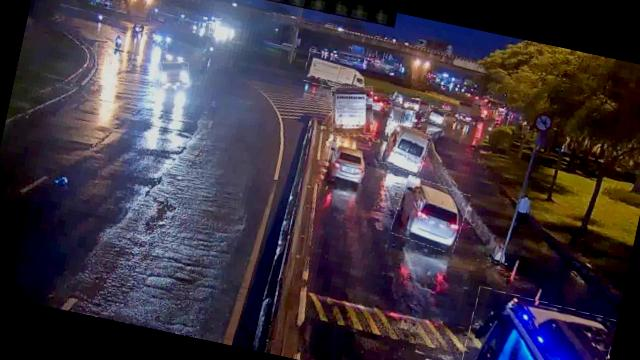Bus: (455, 287, 616, 360), (381, 124, 432, 176)
Car: (391, 176, 472, 252), (323, 141, 370, 189), (156, 57, 192, 90), (424, 105, 448, 126)
Truck: (324, 81, 380, 141), (303, 50, 367, 94)
